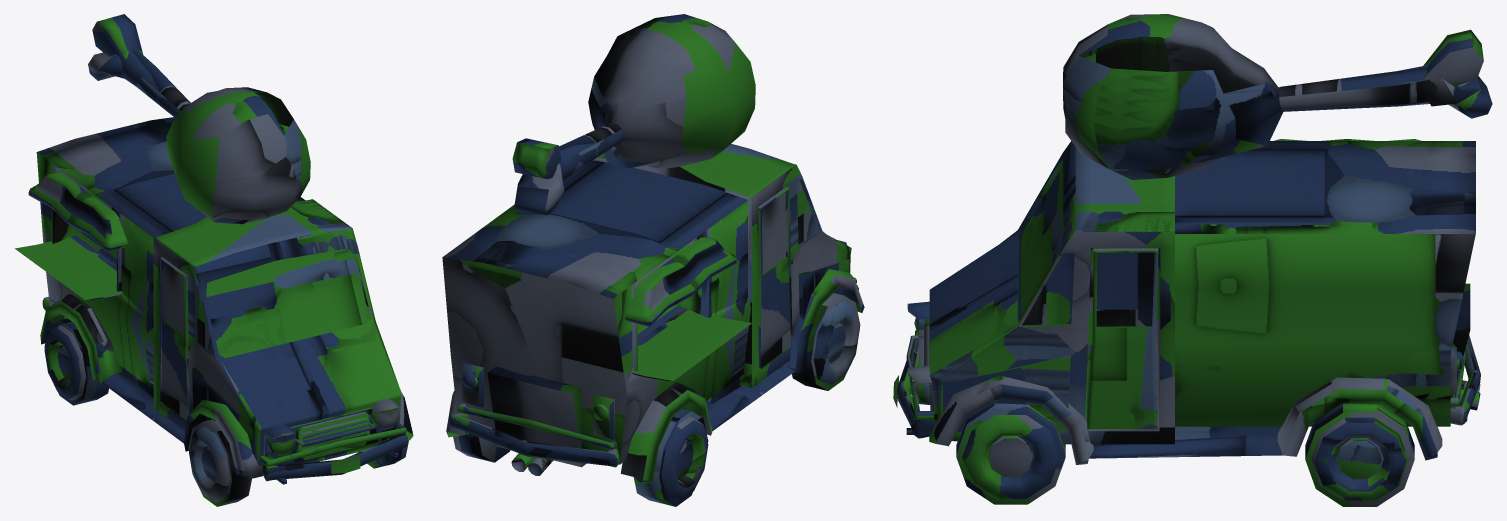
Rendered from TurkeyVan.obj.
3 renders of one model, left to right at view 1: azimuth 30°, elevation 25°; view 2: azimuth 150°, elevation 25°; view 3: azimuth 270°, elevation 25°, orthographic. The views are drawn at different scales.
Visible parts, largest first — view 1: pCube194; view 2: pCube194; view 3: pCube194.
Boxes of the visible parts, x1,y1,x2,y2 form: pCube194: (15, 14, 413, 506); pCube194: (442, 14, 864, 506); pCube194: (893, 14, 1492, 506).
Bounding box in the file's own units: 3.01 × 4.6 × 5.85.
